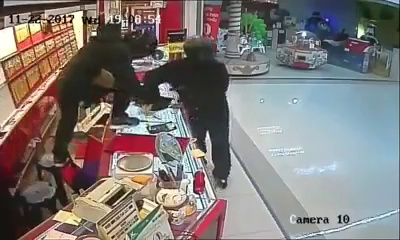helmet: (179, 34, 220, 64), (126, 30, 160, 56)
